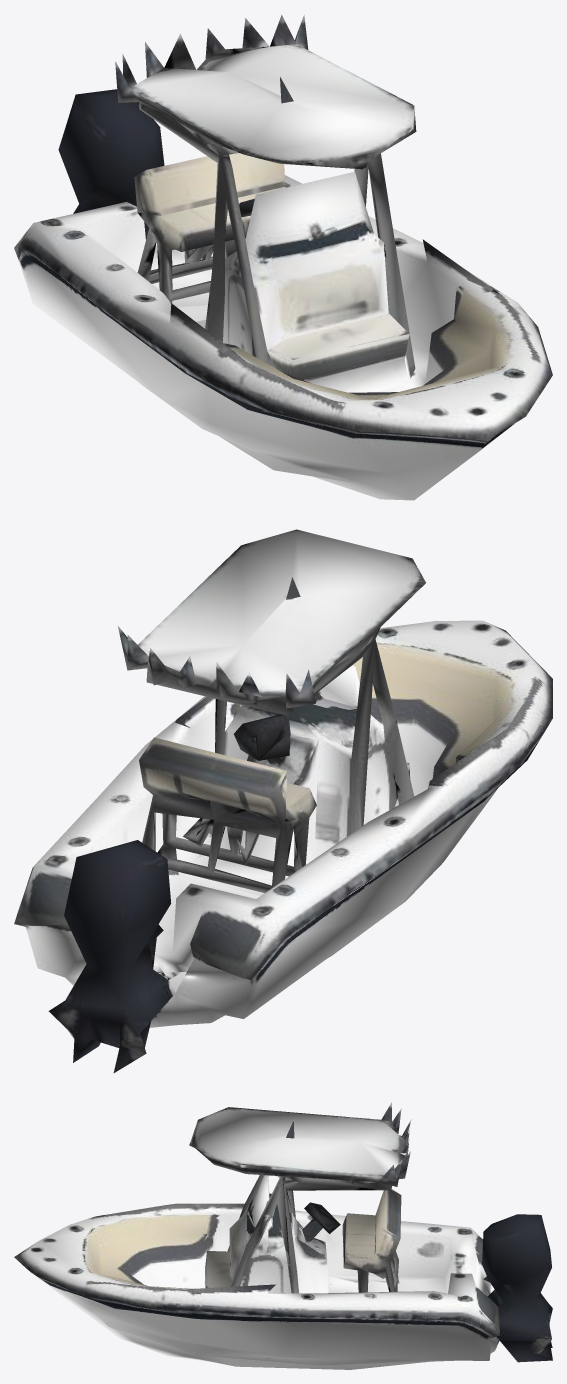
File: boat_center_console.glb
3 views of the same model, one above another, from view 1: azimuth 30°, elevation 25°; view 2: azimuth 150°, elevation 25°; view 3: azimuth 270°, elevation 25° (orthographic). The views are drawn at different scales.
Parts seen in each view (by area): view 1: boat_center_console; view 2: boat_center_console; view 3: boat_center_console.
Part boxes in pixels (left/top/right/bottom): boat_center_console: left=14, top=15, right=552, bottom=500; boat_center_console: left=14, top=529, right=552, bottom=1072; boat_center_console: left=14, top=1102, right=552, bottom=1369.
Bounding box in the file's own units: 3.06 × 3.49 × 7.04.
Materials: 1 (1 with a texture image).
